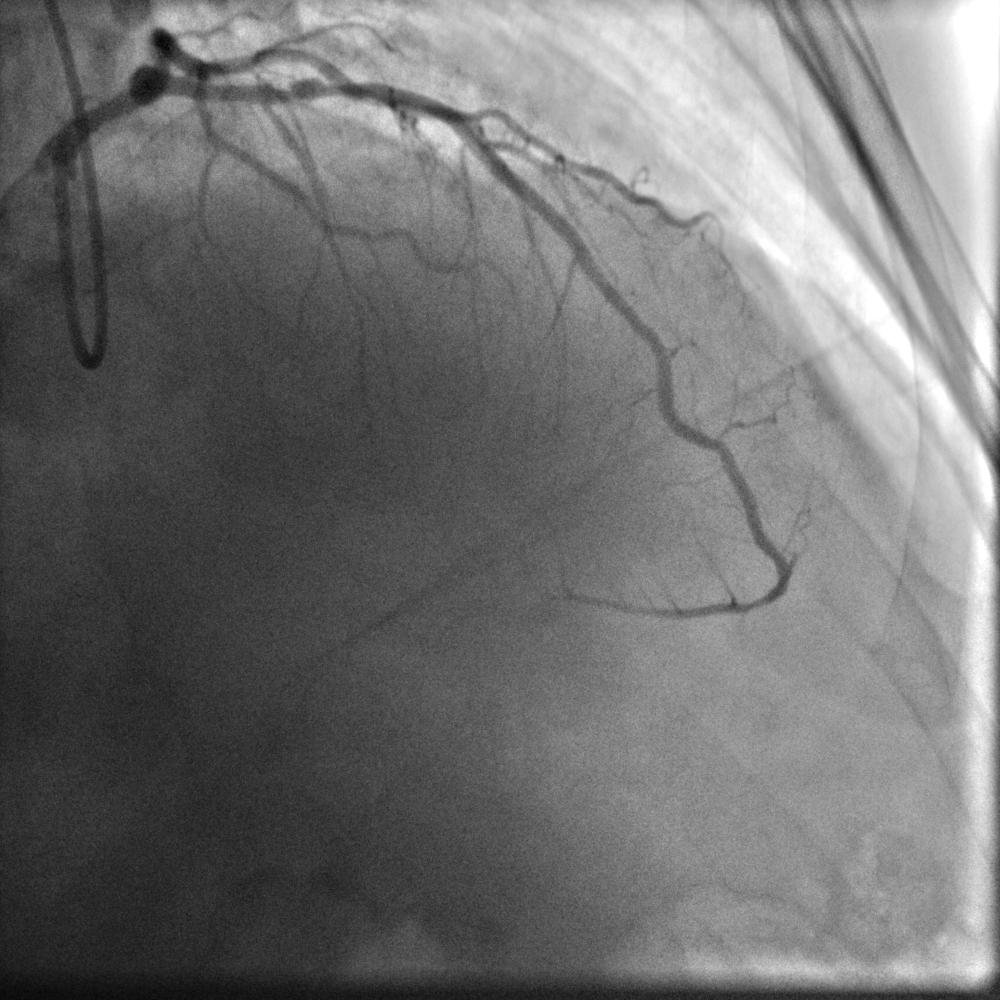Stenosis: (321, 79, 344, 95)
